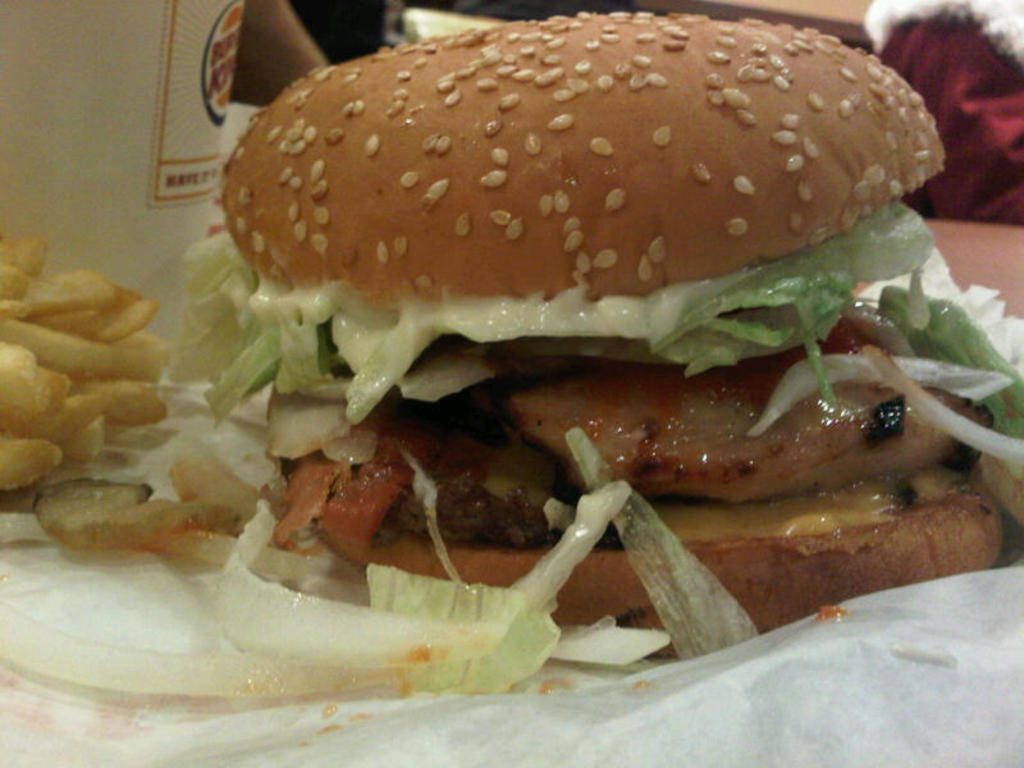Hamburger: (158, 14, 1022, 657)
